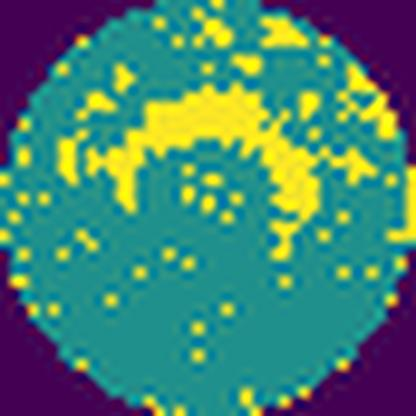Donut: (55, 70, 334, 295)
